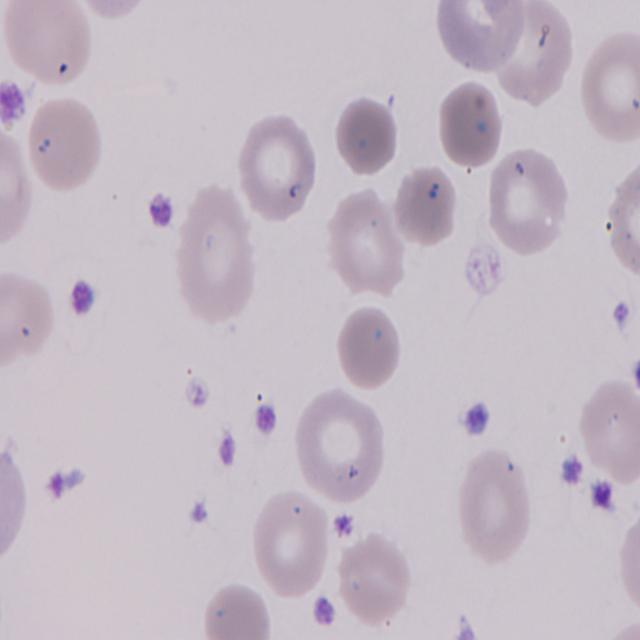RBC: (292, 385, 387, 505), (174, 190, 254, 326), (252, 482, 336, 602), (488, 146, 574, 262), (454, 449, 538, 565), (322, 184, 404, 302), (236, 111, 320, 223), (489, 4, 574, 114), (23, 91, 105, 196), (334, 524, 416, 624), (2, 0, 93, 87), (577, 27, 639, 144), (578, 376, 640, 484), (0, 268, 58, 376), (392, 164, 457, 254), (0, 120, 36, 254), (198, 582, 278, 640), (608, 154, 640, 293), (614, 492, 640, 624)
Spherocyte: (436, 76, 508, 169), (333, 304, 403, 390), (332, 95, 399, 179)
WBC: (428, 4, 544, 75)
